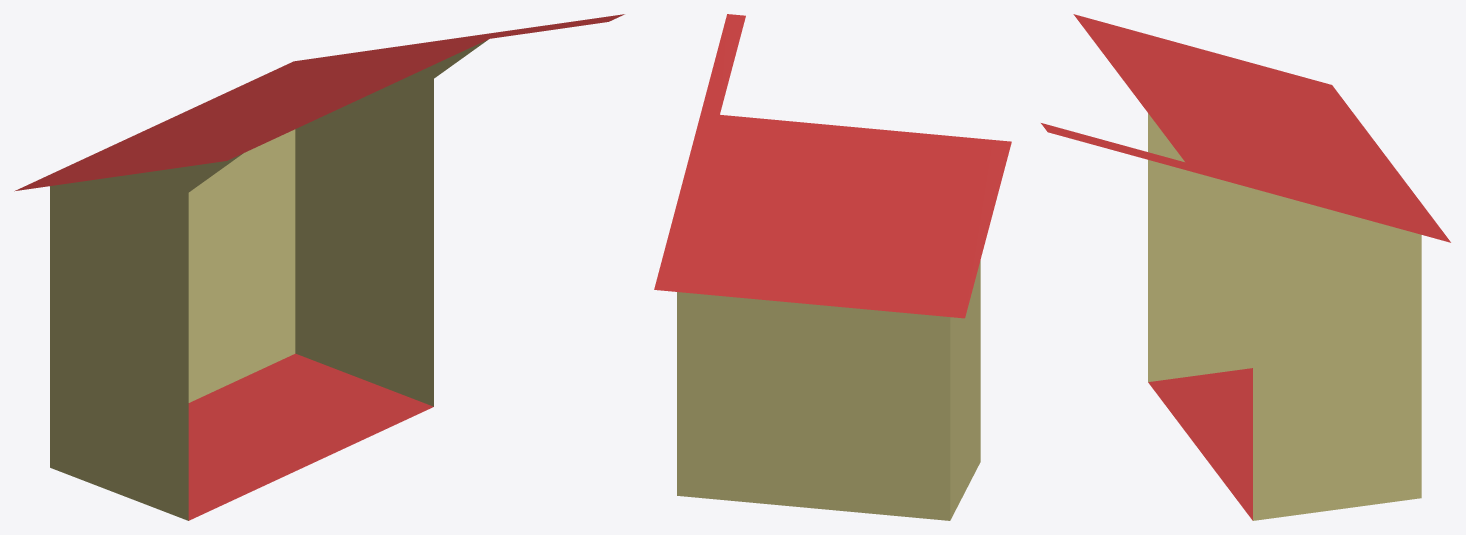
The picture shows the model from 3 angles, left to right: view 1: azimuth 30°, elevation 25°; view 2: azimuth 150°, elevation 25°; view 3: azimuth 270°, elevation 25°; orthographic projection. The views are drawn at different scales.
Size of the model in its own units: 10.53 by 8.61 by 9.86.
